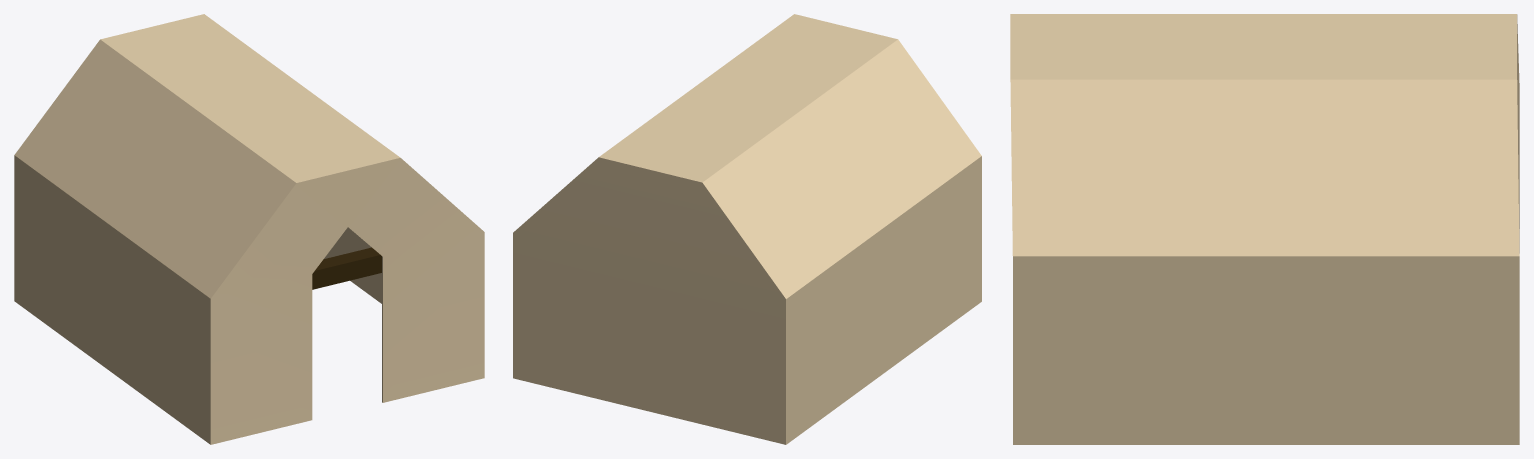
File: Tent.fbx
The picture shows the model from 3 angles, left to right: view 1: azimuth 30°, elevation 25°; view 2: azimuth 150°, elevation 25°; view 3: azimuth 270°, elevation 25°; orthographic projection. The views are drawn at different scales.
Parts seen in each view (by area): view 1: Plane; view 2: Plane; view 3: Plane.
Part boxes in pixels (x1,y1,x2,y2): Plane: (14, 14, 484, 444); Plane: (513, 14, 981, 444); Plane: (1010, 14, 1519, 444).
Size of the model in its own units: 344 by 290 by 429.
